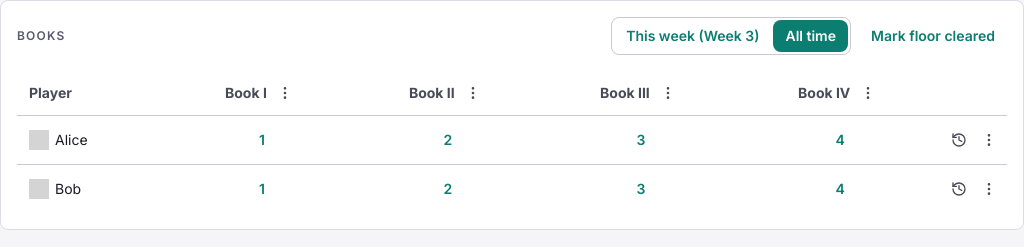
Test: BookLedgerCard — column + row kebabs (D7b, R-16 4/4) › right-clicking a Book column header opens the SAME single item the kebab click does
Right-click the column heading "Book II" at {"x": 448, "y": 93}, box left=353, top=71, right=542, bottom=116
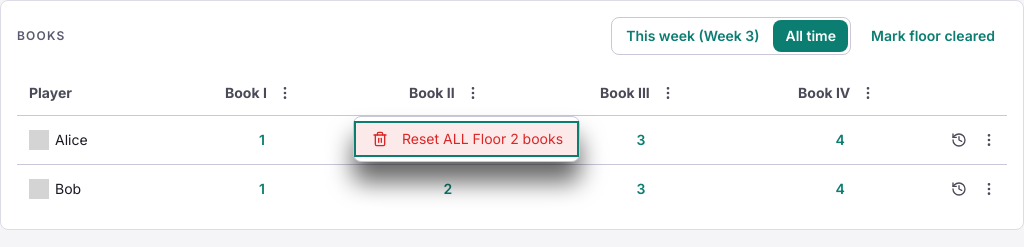
Expected: the number of menu items is 1, left=354, top=120, right=579, bottom=156
